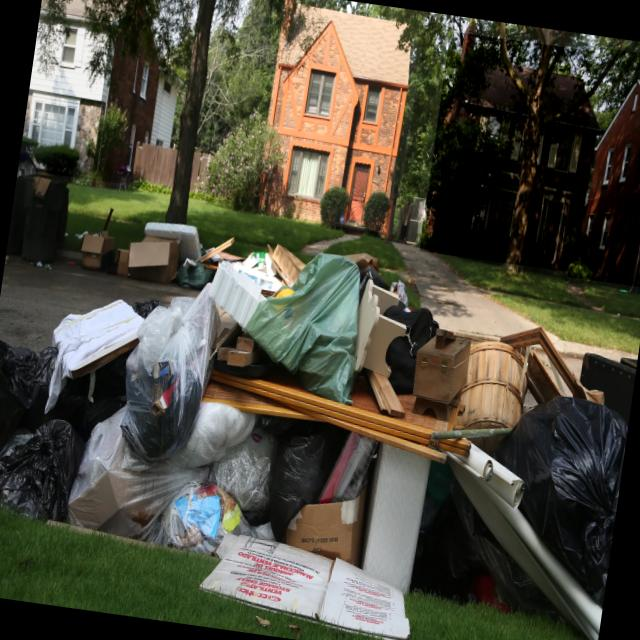House: (420, 32, 612, 274), (257, 0, 427, 234), (18, 0, 179, 188), (567, 47, 640, 287)
